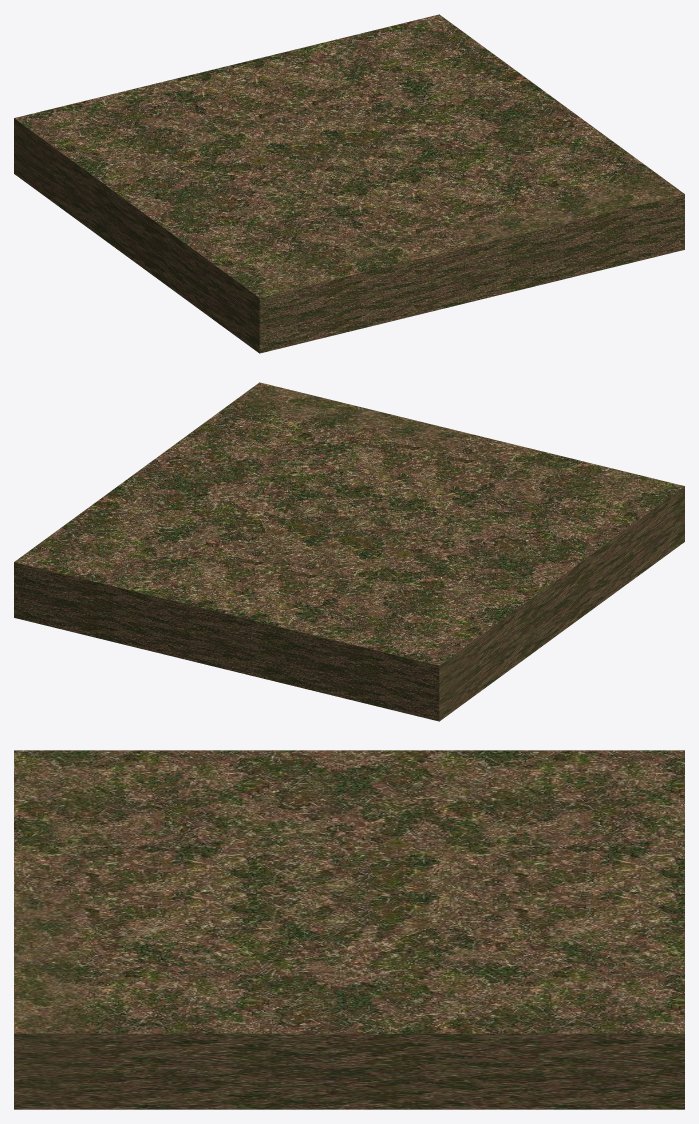
Rendered from ground_dirt_01.fbx.
3 renders of one model, top to bottom at view 1: azimuth 30°, elevation 25°; view 2: azimuth 150°, elevation 25°; view 3: azimuth 270°, elevation 25°, orthographic. The views are drawn at different scales.
Parts seen in each view (by area): view 1: 4x4 Dirt Floor.002; view 2: 4x4 Dirt Floor.002; view 3: 4x4 Dirt Floor.002.
Boxes of the visible parts, x1,y1,x2,y2 form: 4x4 Dirt Floor.002: (14, 14, 684, 353); 4x4 Dirt Floor.002: (14, 382, 684, 721); 4x4 Dirt Floor.002: (14, 750, 684, 1109).
Bounding box in the file's own units: 400 × 50 × 400.
1 material, 1 textured.
